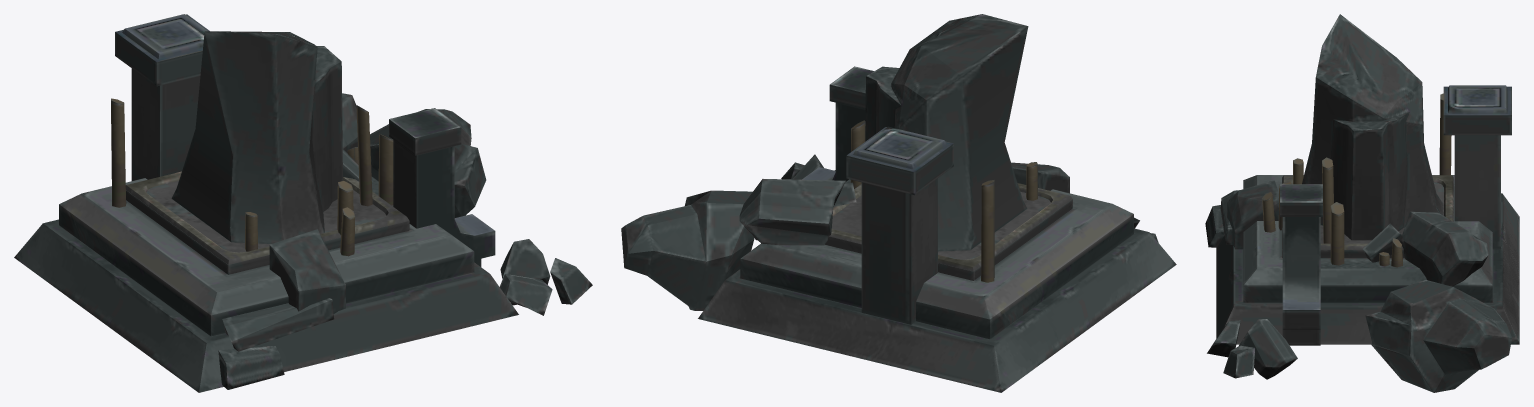
File: S_church_StatueBroken.fbx
3 renders of one model, left to right at view 1: azimuth 30°, elevation 25°; view 2: azimuth 150°, elevation 25°; view 3: azimuth 270°, elevation 25°, orthographic. The views are drawn at different scales.
Parts seen in each view (by area): view 1: S_church_StatueBroken; view 2: S_church_StatueBroken; view 3: S_church_StatueBroken.
Boxes of the visible parts, left/top/right/bottom form: S_church_StatueBroken: left=14, top=14, right=592, bottom=392; S_church_StatueBroken: left=621, top=14, right=1176, bottom=392; S_church_StatueBroken: left=1205, top=14, right=1519, bottom=392.
Size of the model in its own units: 1.34 by 0.9577 by 1.04.
1 material, 1 textured.
